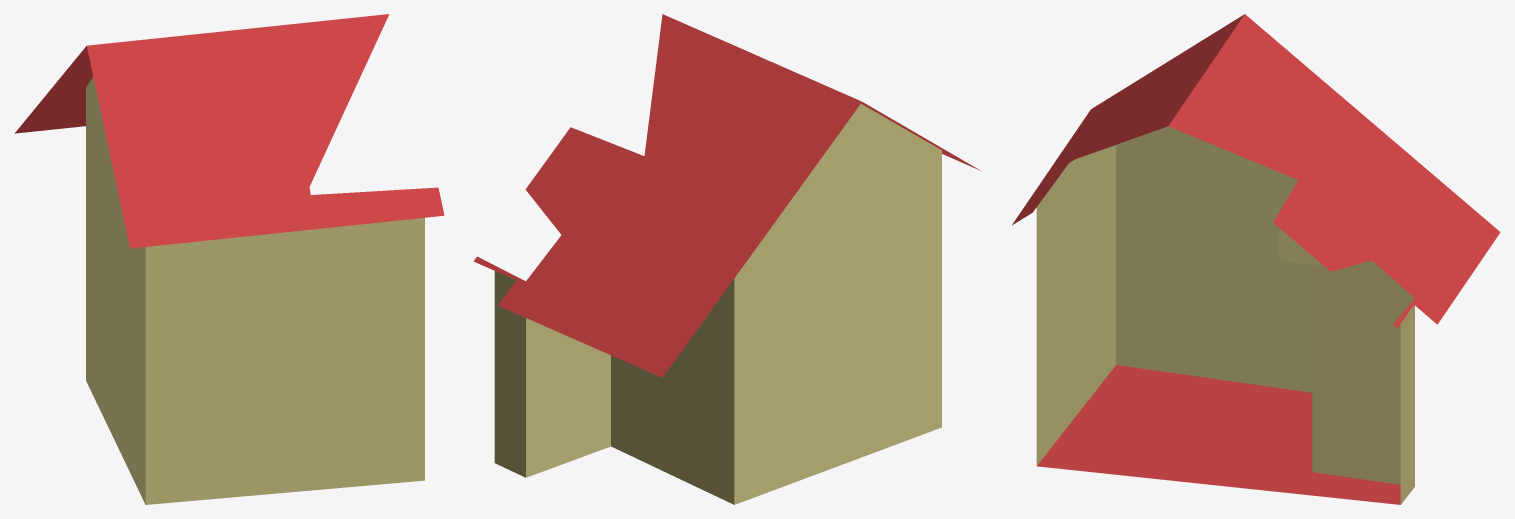
The picture shows the model from 3 angles, left to right: view 1: azimuth 30°, elevation 25°; view 2: azimuth 150°, elevation 25°; view 3: azimuth 270°, elevation 25°; orthographic projection. The views are drawn at different scales.
Size of the model in its own units: 12.76 by 16.12 by 12.98.
